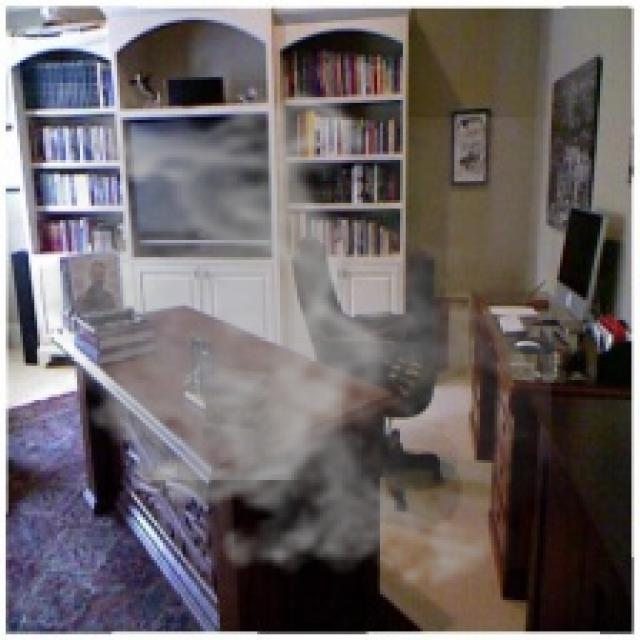smoke: (14, 83, 552, 603)
